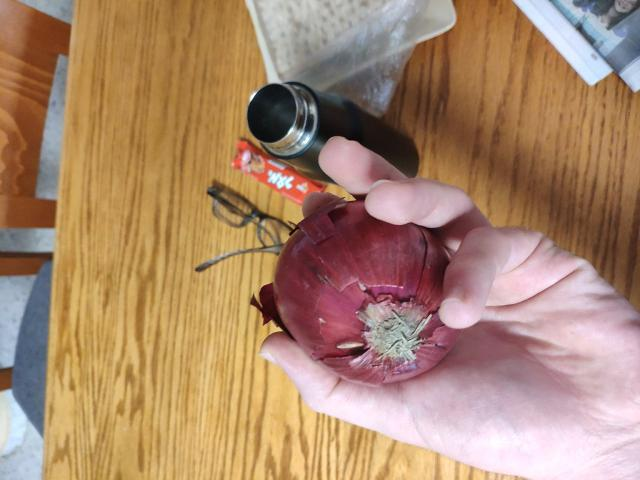onion: (275, 216, 457, 376)
